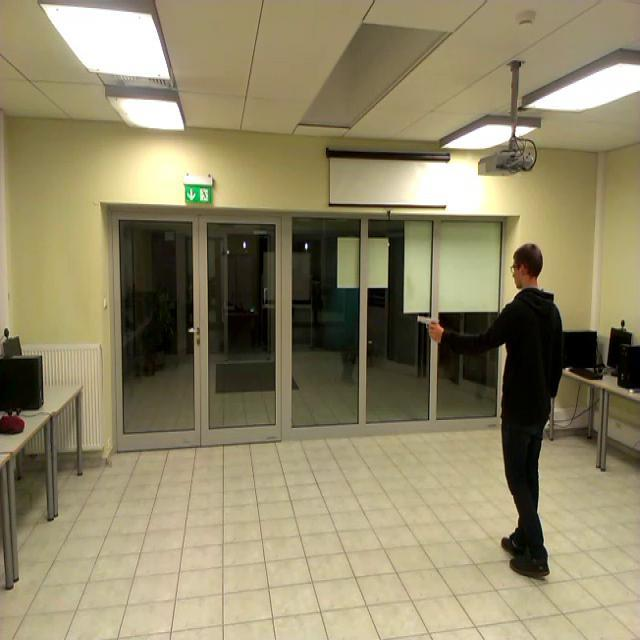Gun: (418, 314, 440, 334)
